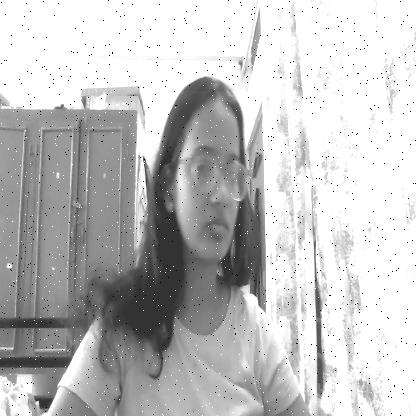Distracted: (158, 91, 248, 258)
